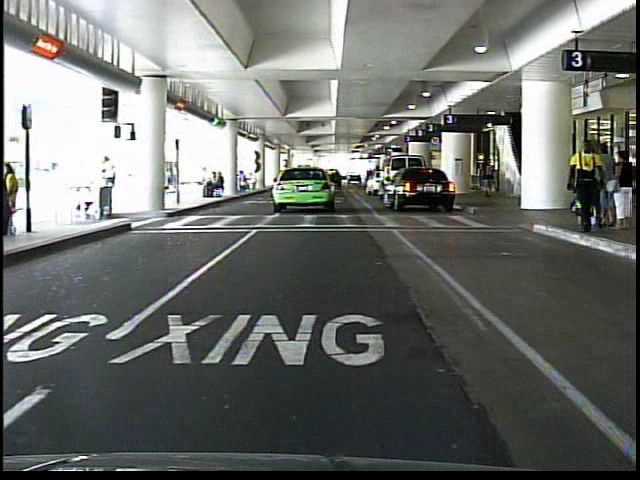person: (559, 138, 603, 238), (591, 144, 616, 233), (96, 155, 129, 221), (607, 143, 630, 237), (478, 155, 500, 205)
